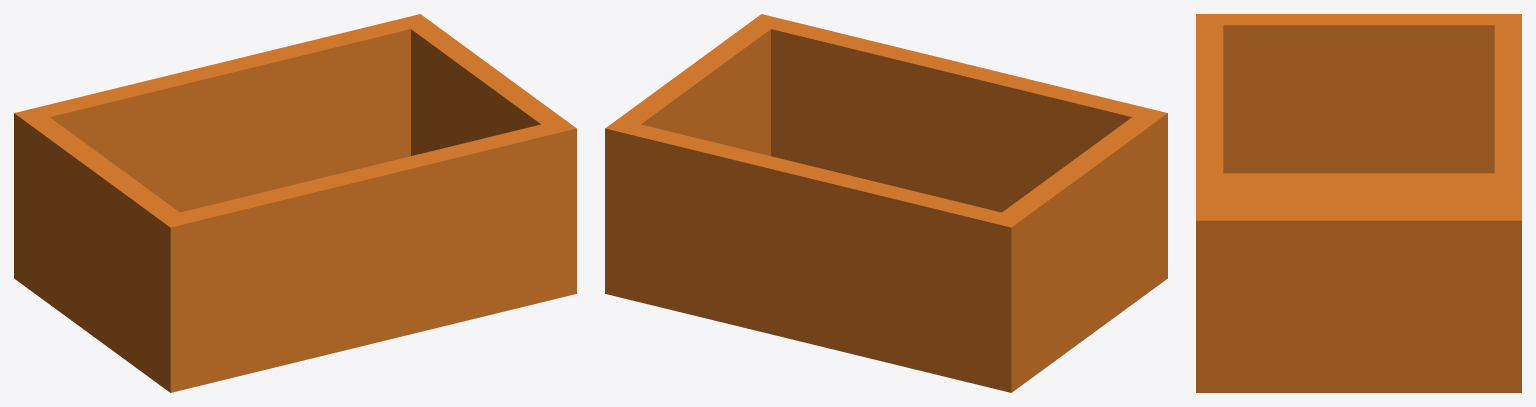
Rendered from carboard_incubator.glb.
The picture shows the model from 3 angles, left to right: view 1: azimuth 30°, elevation 25°; view 2: azimuth 150°, elevation 25°; view 3: azimuth 270°, elevation 25°; orthographic projection. The views are drawn at different scales.
Parts seen in each view (by area): view 1: Box; view 2: Box; view 3: Box.
Part boxes in pixels (x1,y1,x2,y2): Box: [14, 14, 576, 392]; Box: [605, 14, 1167, 392]; Box: [1196, 14, 1521, 392].
Bounding box in the file's own units: 1.8 × 0.7 × 1.2.
